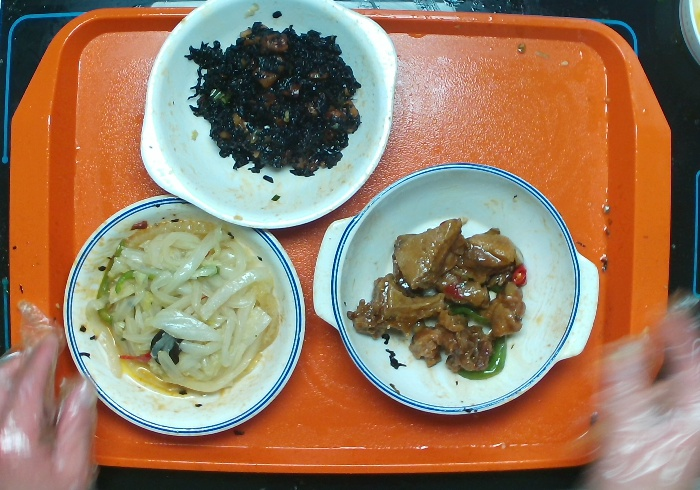HZYJPL-Dai_Er_Bai_Yuan_Wan: (136, 1, 398, 231)
HZYJPL-Lan_Bian_Dai_Er_Wan: (310, 160, 601, 417)
HZYJPL-Lan_Bian_Yuan_Die: (62, 192, 306, 440)
